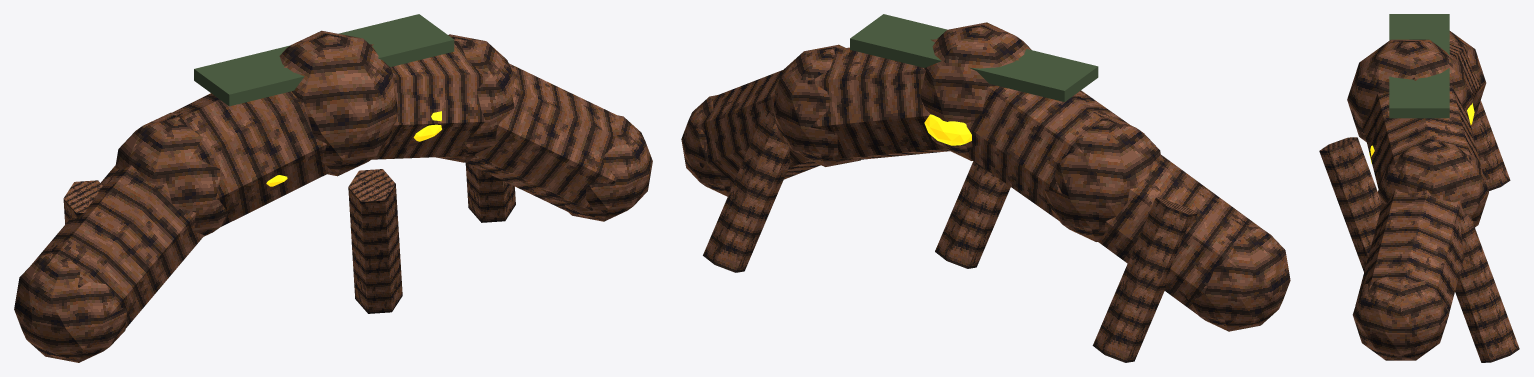
File: raiz_gigante.glb
The picture shows the model from 3 angles, left to right: view 1: azimuth 30°, elevation 25°; view 2: azimuth 150°, elevation 25°; view 3: azimuth 270°, elevation 25°; orthographic projection. The views are drawn at different scales.
Visible parts, largest first — view 1: Cylinder, Cylinder.003, Cylinder.001, Icosphere.002, Icosphere, Cylinder.002, Cube, Icosphere.001, Cylinder.005, Icosphere.004, Icosphere.003, Cylinder.006 (+1 smaller); view 2: Cylinder.002, Cylinder.001, Cylinder, Icosphere.001, Cylinder.004, Cube, Icosphere.002, Cylinder.006, Icosphere, Icosphere.003, Cylinder.003, Cylinder.005 (+2 smaller); view 3: Cylinder.003, Icosphere.004, Icosphere.003, Icosphere.002, Cylinder.002, Cylinder.006, Cube, Cylinder.005, Cylinder.004, Icosphere.001, Cylinder.001.
Part boxes in pixels (box(x1,y1,x2,y2)): Cylinder: box(30, 165, 204, 335); Cylinder.003: box(465, 63, 628, 211); Cylinder.001: box(172, 65, 331, 226); Icosphere.002: box(279, 30, 397, 176); Icosphere: box(14, 252, 127, 362); Cylinder.002: box(370, 40, 495, 159); Cube: box(194, 14, 454, 106); Icosphere.001: box(115, 112, 227, 236); Cylinder.005: box(348, 169, 402, 313); Icosphere.004: box(565, 115, 652, 221); Icosphere.003: box(436, 34, 514, 162); Cylinder.006: box(465, 163, 515, 222); Cylinder.002: box(807, 39, 949, 159); Cylinder.001: box(963, 58, 1129, 220); Cylinder: box(1098, 155, 1263, 313); Icosphere.001: box(1044, 116, 1161, 241); Cylinder.004: box(1092, 197, 1197, 362); Cube: box(850, 14, 1098, 101); Icosphere.002: box(920, 22, 1031, 160); Cylinder.006: box(703, 108, 789, 272); Icosphere: box(1192, 224, 1290, 331); Icosphere.003: box(773, 44, 861, 166); Cylinder.003: box(692, 69, 820, 191); Cylinder.005: box(935, 161, 1010, 268); Cylinder.003: box(1355, 189, 1473, 324); Icosphere.004: box(1352, 276, 1448, 360); Icosphere.003: box(1377, 141, 1488, 227); Icosphere.002: box(1347, 39, 1473, 141); Cylinder.002: box(1362, 76, 1481, 188); Cylinder.006: box(1455, 213, 1519, 362); Cube: box(1389, 14, 1449, 118); Cylinder.005: box(1319, 137, 1381, 272); Cylinder.004: box(1471, 100, 1510, 190); Icosphere.001: box(1449, 31, 1486, 117); Cylinder.001: box(1449, 42, 1481, 102).
Bounding box in the file's own units: 6.62 × 2.74 × 2.16.
Materials: 3 (1 with a texture image).
